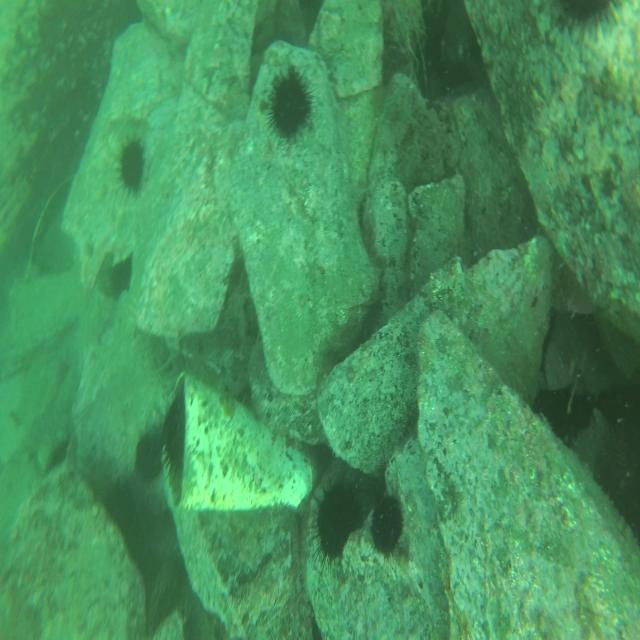echinus: (268, 72, 312, 144), (313, 486, 353, 559), (372, 496, 403, 558), (118, 138, 144, 198), (162, 406, 186, 470), (135, 434, 163, 482)
